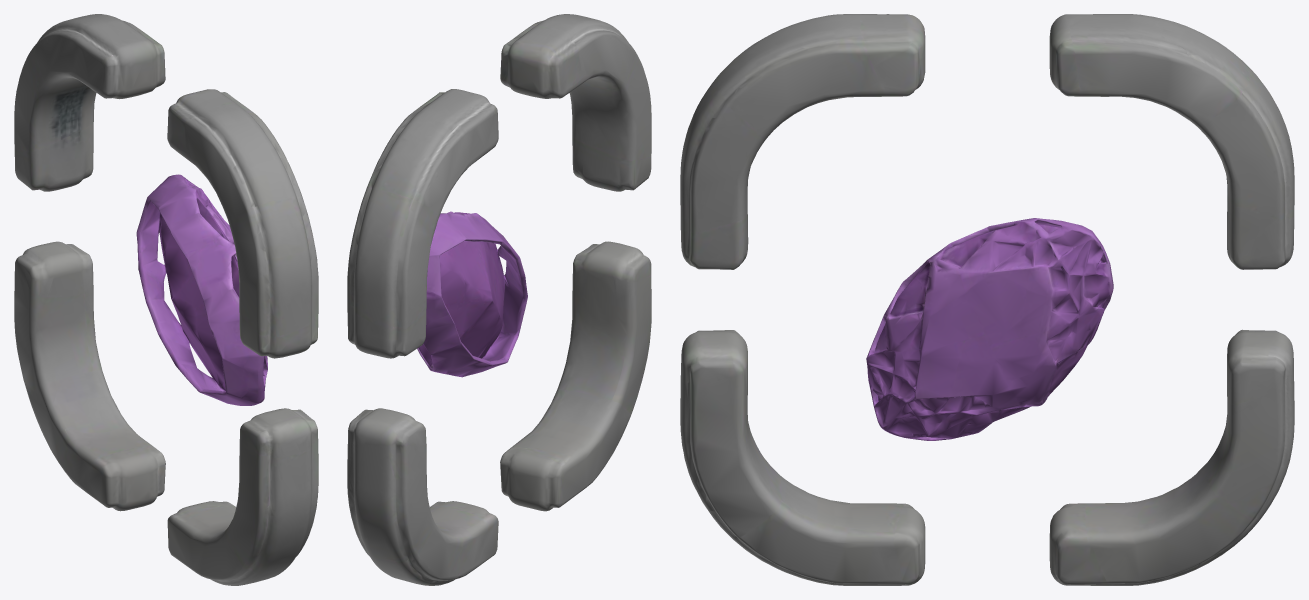
The model's file is ic-selection.glb.
3 renders of one model, left to right at view 1: azimuth 30°, elevation 25°; view 2: azimuth 150°, elevation 25°; view 3: azimuth 270°, elevation 25°, orthographic. The views are drawn at different scales.
Parts seen in each view (by area): view 1: tripo_node_3e4c2475-3e94-4159-bf64-aad97a489cf3; view 2: tripo_node_3e4c2475-3e94-4159-bf64-aad97a489cf3; view 3: tripo_node_3e4c2475-3e94-4159-bf64-aad97a489cf3.
Part boxes in pixels (x1=…): tripo_node_3e4c2475-3e94-4159-bf64-aad97a489cf3: x1=14, y1=14, x2=318, y2=585; tripo_node_3e4c2475-3e94-4159-bf64-aad97a489cf3: x1=347, y1=14, x2=651, y2=585; tripo_node_3e4c2475-3e94-4159-bf64-aad97a489cf3: x1=680, y1=14, x2=1294, y2=585.
Size of the model in its own units: 0.2307 by 0.9999 by 1.
1 material, 1 textured.
